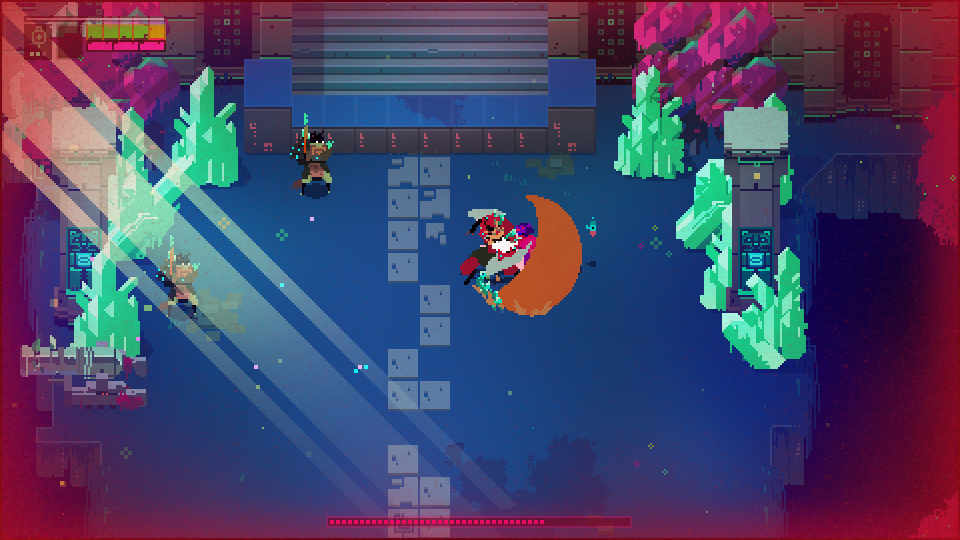hanged_man: (456, 200, 559, 315)
